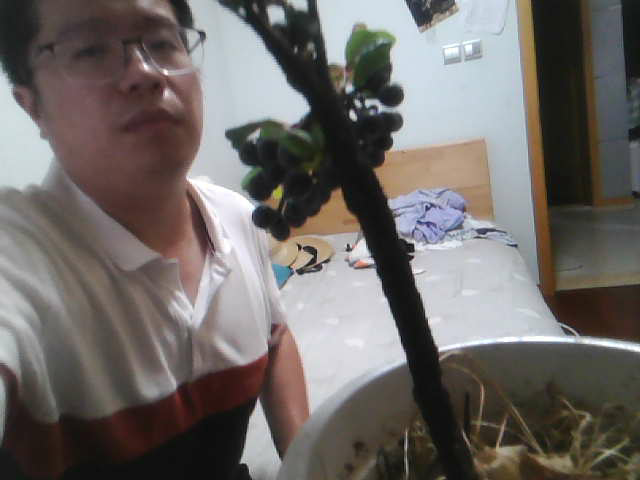blueberry: (372, 77, 409, 110), (285, 170, 313, 193)
